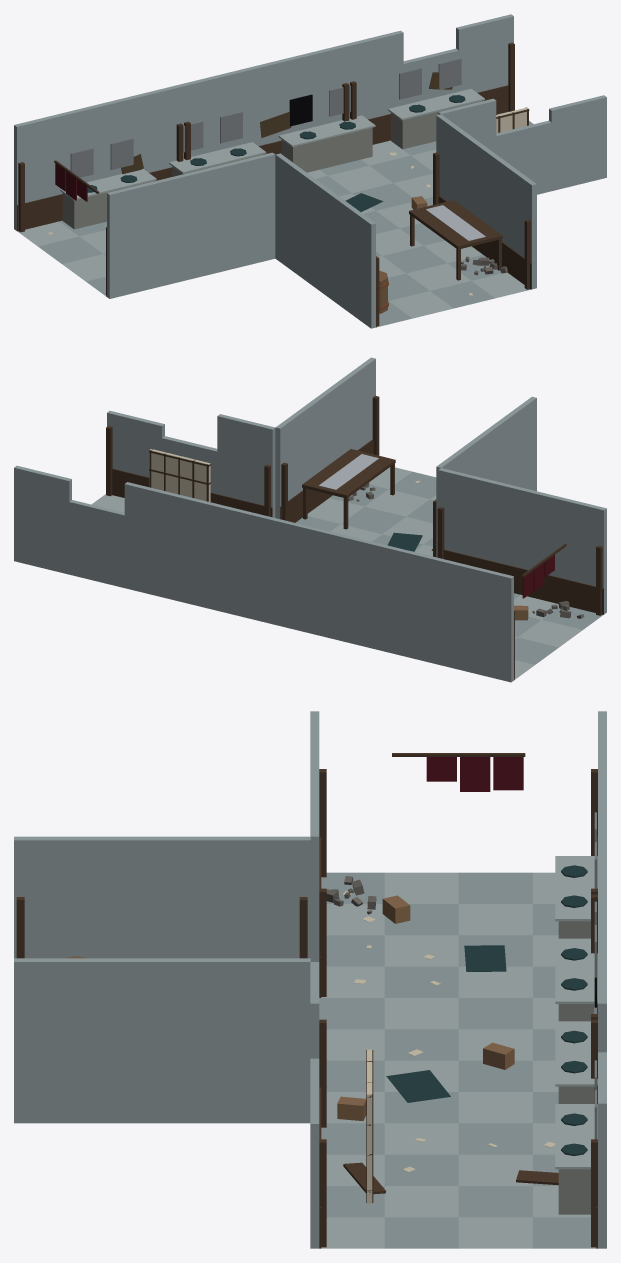
The picture shows the model from 3 angles, top to bottom: view 1: azimuth 30°, elevation 25°; view 2: azimuth 150°, elevation 25°; view 3: azimuth 270°, elevation 25°; orthographic projection. The views are drawn at different scales.
Parts seen in each view (by area): view 1: f_B, f_B_Deco; view 2: f_B, f_B_Deco; view 3: f_B, f_B_Deco.
Part boxes in pixels (box(x1,y1,x2,y2)): f_B: box(14, 14, 606, 328); f_B_Deco: box(17, 42, 531, 327); f_B: box(14, 357, 606, 682); f_B_Deco: box(106, 395, 603, 680); f_B: box(14, 711, 606, 1248); f_B_Deco: box(16, 753, 597, 1248).
Bounding box in the file's own units: 1.33 × 2 × 0.4036.
